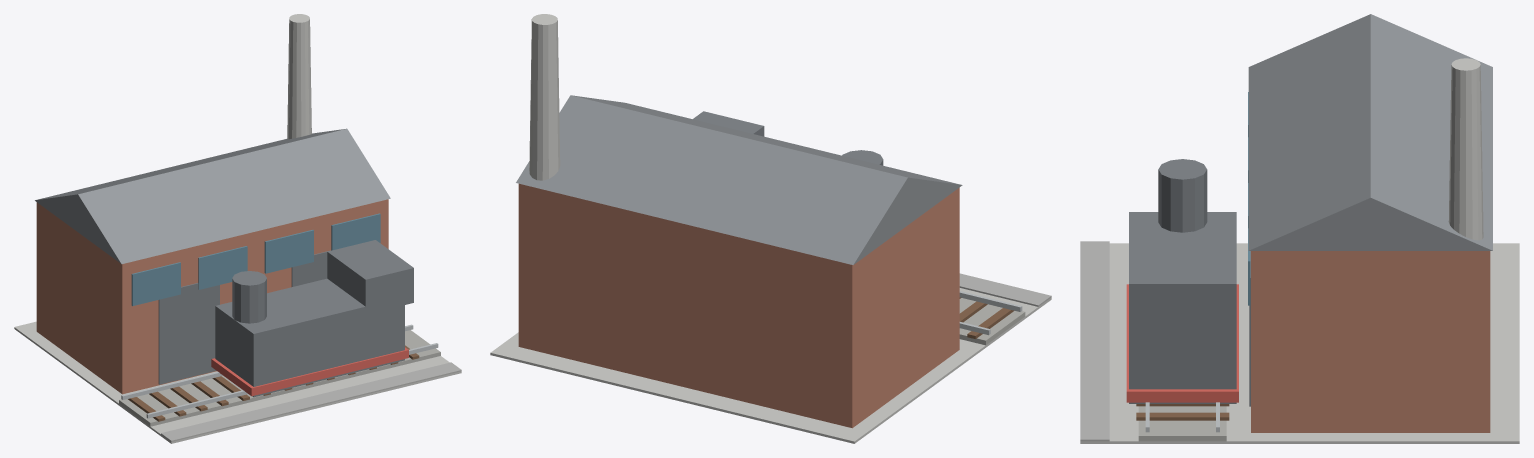
The model's file is railworks.fbx.
3 views of the same model, side by side, from view 1: azimuth 30°, elevation 25°; view 2: azimuth 150°, elevation 25°; view 3: azimuth 270°, elevation 25° (orthographic). The views are drawn at different scales.
Visible parts, largest first — view 1: railworks; view 2: railworks; view 3: railworks.
Boxes of the visible parts, x1,y1,x2,y2 form: railworks: (14, 14, 461, 443); railworks: (490, 14, 1051, 443); railworks: (1080, 14, 1519, 443).
Bounding box in the file's own units: 960 × 820 × 900.
